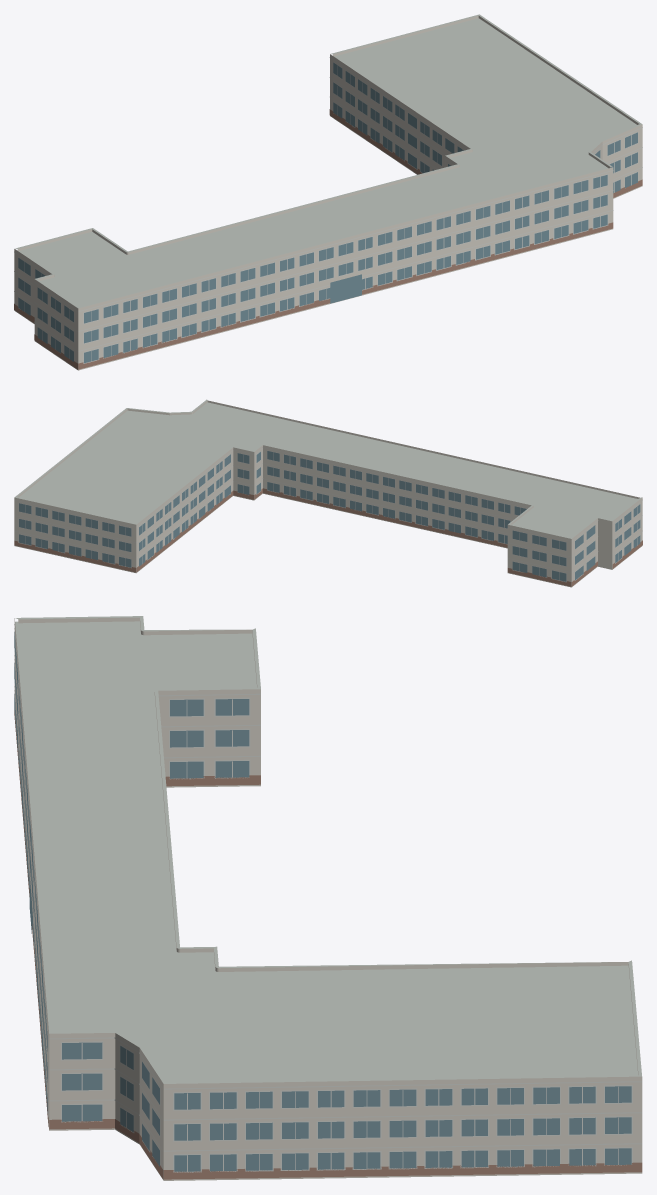
The model's file is public-2377fed5-d7ae-4d3f-ac0d-6c288aa48a19.glb.
3 views of the same model, one above another, from view 1: azimuth 30°, elevation 25°; view 2: azimuth 150°, elevation 25°; view 3: azimuth 270°, elevation 25° (orthographic). The views are drawn at different scales.
Parts seen in each view (by area): view 1: public-2377fed5-d7ae-4d3f-ac0d-6c288aa48a19; view 2: public-2377fed5-d7ae-4d3f-ac0d-6c288aa48a19; view 3: public-2377fed5-d7ae-4d3f-ac0d-6c288aa48a19.
Part boxes in pixels (left/top/right/bottom): public-2377fed5-d7ae-4d3f-ac0d-6c288aa48a19: left=14, top=14, right=642, bottom=370; public-2377fed5-d7ae-4d3f-ac0d-6c288aa48a19: left=14, top=399, right=642, bottom=587; public-2377fed5-d7ae-4d3f-ac0d-6c288aa48a19: left=14, top=616, right=642, bottom=1180.
Bounding box in the file's own units: 94.85 × 9.15 × 53.8.
